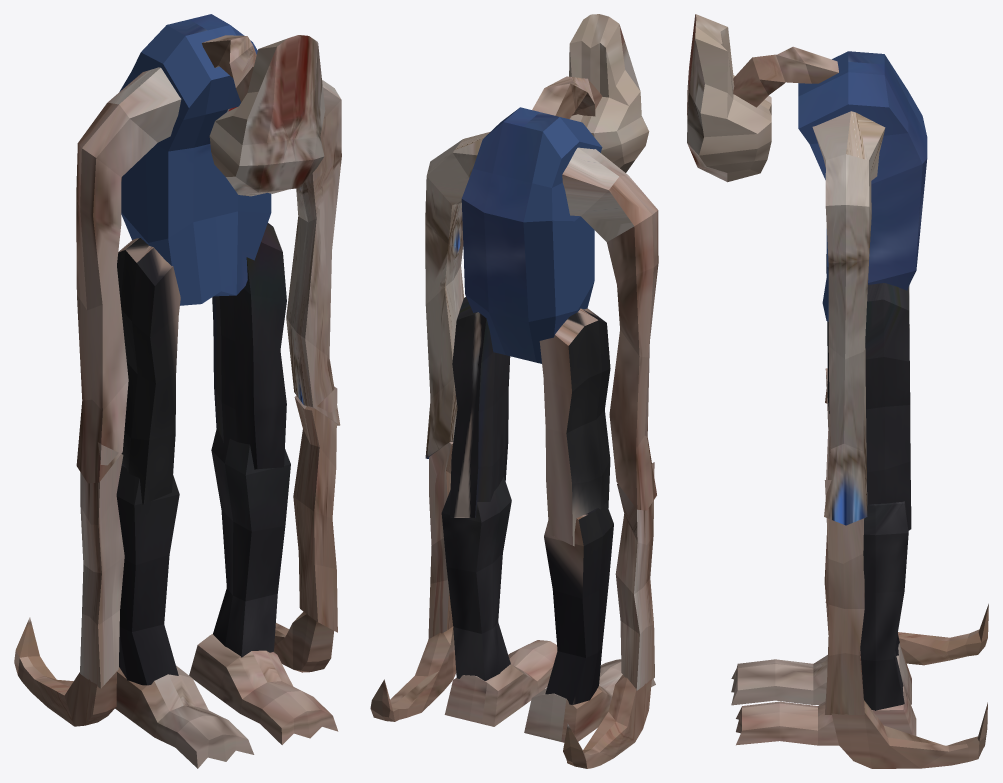
Rendered from goodshannon.fbx.
3 renders of one model, left to right at view 1: azimuth 30°, elevation 25°; view 2: azimuth 150°, elevation 25°; view 3: azimuth 270°, elevation 25°, orthographic. The views are drawn at different scales.
Visible parts, largest first — view 1: shann:Mesh; view 2: shann:Mesh; view 3: shann:Mesh.
Part boxes in pixels (x1,y1,x2,y2): shann:Mesh: [14, 14, 341, 768]; shann:Mesh: [370, 14, 658, 768]; shann:Mesh: [687, 14, 988, 768].
Bounding box in the file's own units: 19.27 × 52.41 × 20.49.
Materials: 2 (2 with a texture image).
